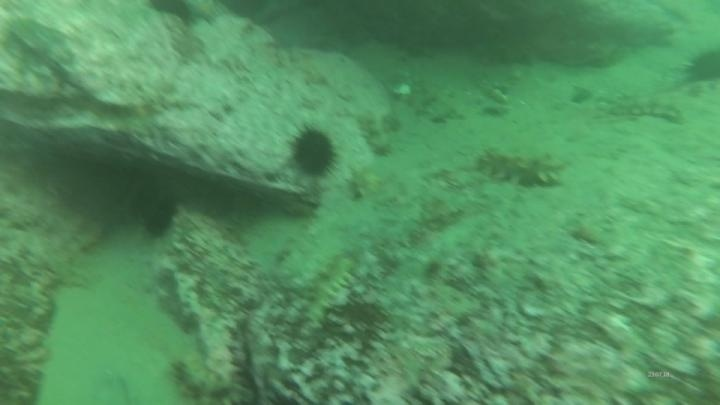echinus: (287, 123, 340, 181), (135, 188, 181, 241), (681, 45, 720, 88), (144, 1, 198, 28)
holothurian: (299, 247, 362, 332), (472, 143, 571, 192), (166, 353, 251, 404), (596, 89, 686, 126), (358, 107, 393, 153), (348, 163, 376, 199)
starfish: (182, 1, 226, 28)
